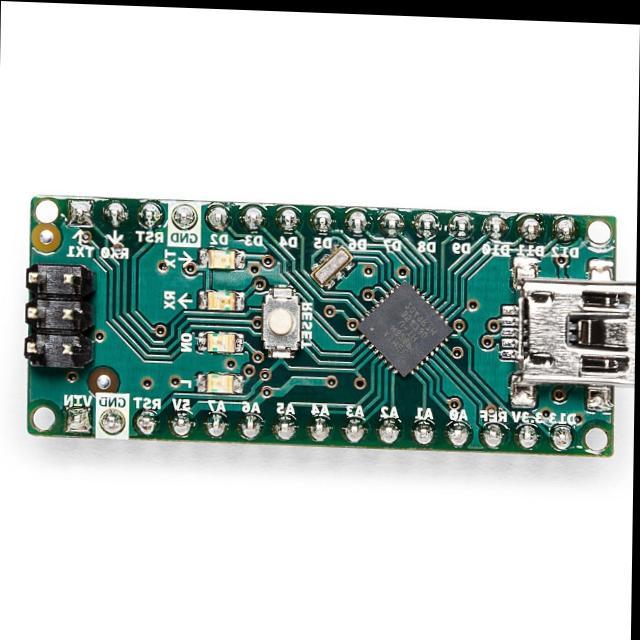Arduino-Nano: (25, 197, 635, 459)
